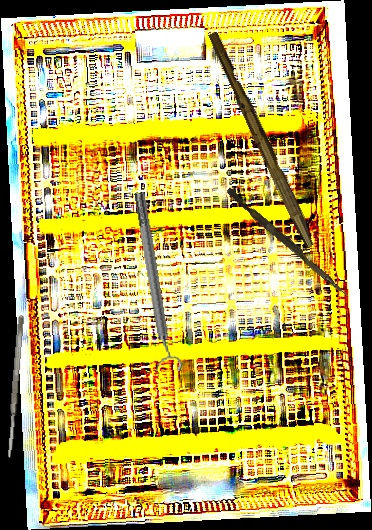Fixation Ring: (126, 190, 184, 375)
Pusher: (223, 187, 354, 299)
Scalpel Handle: (203, 30, 321, 249)
Spatula Surgical: (4, 314, 26, 460)
